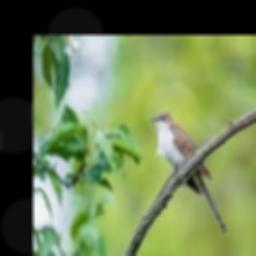Cuckoo: (150, 111, 228, 235)
